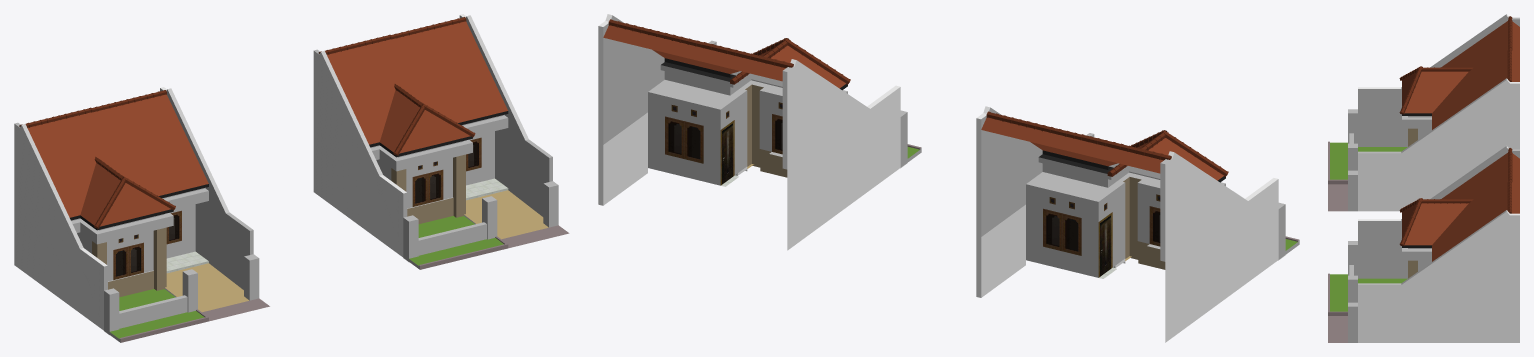
Rendered from RumahBelakang.fbx.
The picture shows the model from 3 angles, left to right: view 1: azimuth 30°, elevation 25°; view 2: azimuth 150°, elevation 25°; view 3: azimuth 270°, elevation 25°; orthographic projection. The views are drawn at different scales.
Parts seen in each view (by area): view 1: Group9, Group1, AtapSeluruh, AtapSeluruh1; view 2: Group9, Group1, AtapSeluruh1, AtapSeluruh, Group8, Group16, Group12, Group4; view 3: Group9, Group1, AtapSeluruh1, AtapSeluruh, Group6, Group14, Group15, Group7, Group8, Group16, Group4, Group12.
Part boxes in pixels (x1,y1,x2,y2): Group9: [313, 14, 569, 269]; Group1: [14, 87, 269, 342]; AtapSeluruh: [27, 94, 208, 244]; AtapSeluruh1: [327, 21, 508, 171]; Group9: [598, 14, 921, 250]; Group1: [976, 106, 1299, 342]; AtapSeluruh1: [603, 25, 847, 124]; AtapSeluruh: [981, 117, 1225, 216]; Group8: [986, 111, 1080, 139]; Group16: [608, 19, 703, 47]; Group12: [702, 42, 793, 67]; Group4: [1080, 134, 1171, 160]; Group9: [1328, 146, 1519, 342]; Group1: [1328, 14, 1519, 211]; AtapSeluruh1: [1402, 153, 1519, 261]; AtapSeluruh: [1402, 21, 1519, 129]; Group6: [1399, 66, 1422, 114]; Group14: [1399, 198, 1422, 246]; Group15: [1421, 199, 1473, 203]; Group7: [1421, 67, 1473, 71]; Group8: [1507, 47, 1511, 81]; Group16: [1507, 179, 1511, 213]; Group4: [1508, 16, 1512, 50]; Group12: [1508, 148, 1512, 181].
Size of the model in its own units: 23.4 by 7.28 by 9.6.
